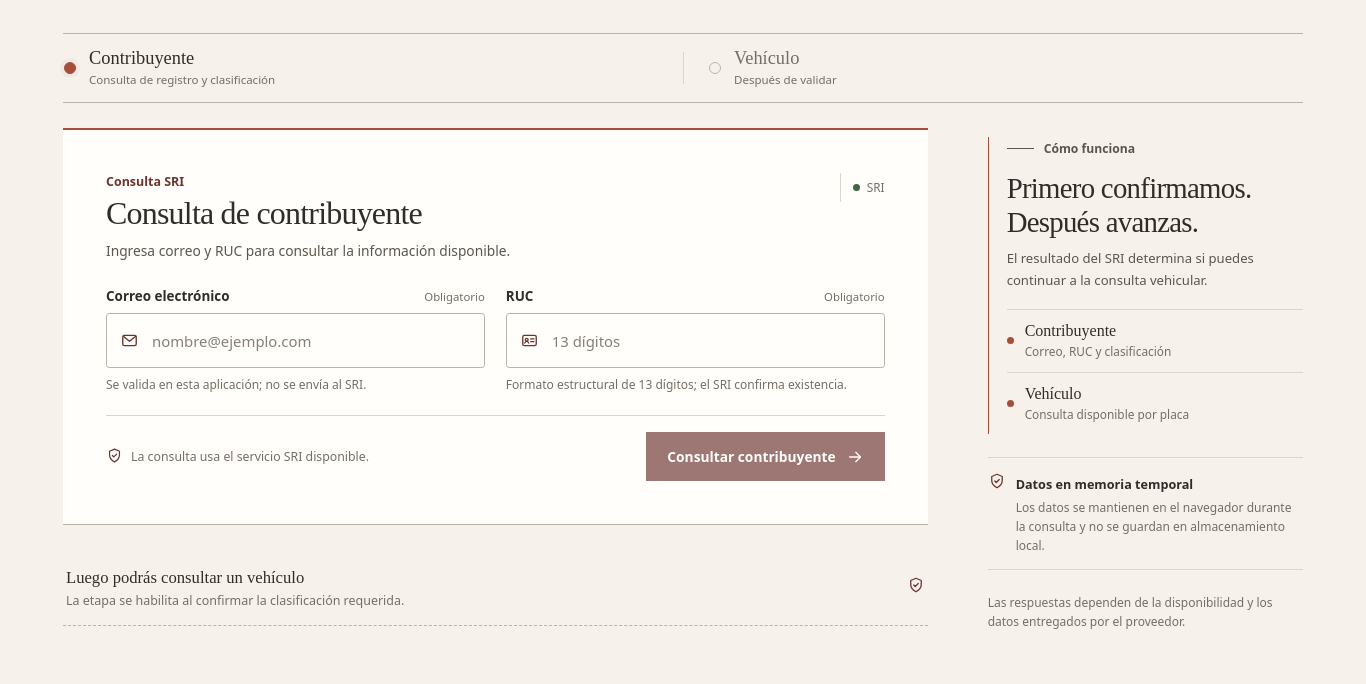
Portal de consultas › no marca campos vacíos al abrir y muestra el estado requerido después de interactuar
(page scrolled)
Expected: the button "Consultar contribuyente" is disabled, [646,432,885,482]
Click the field labelled "Correo electrónico". click: {"x": 295, "y": 341}
box: [106,314,485,368]
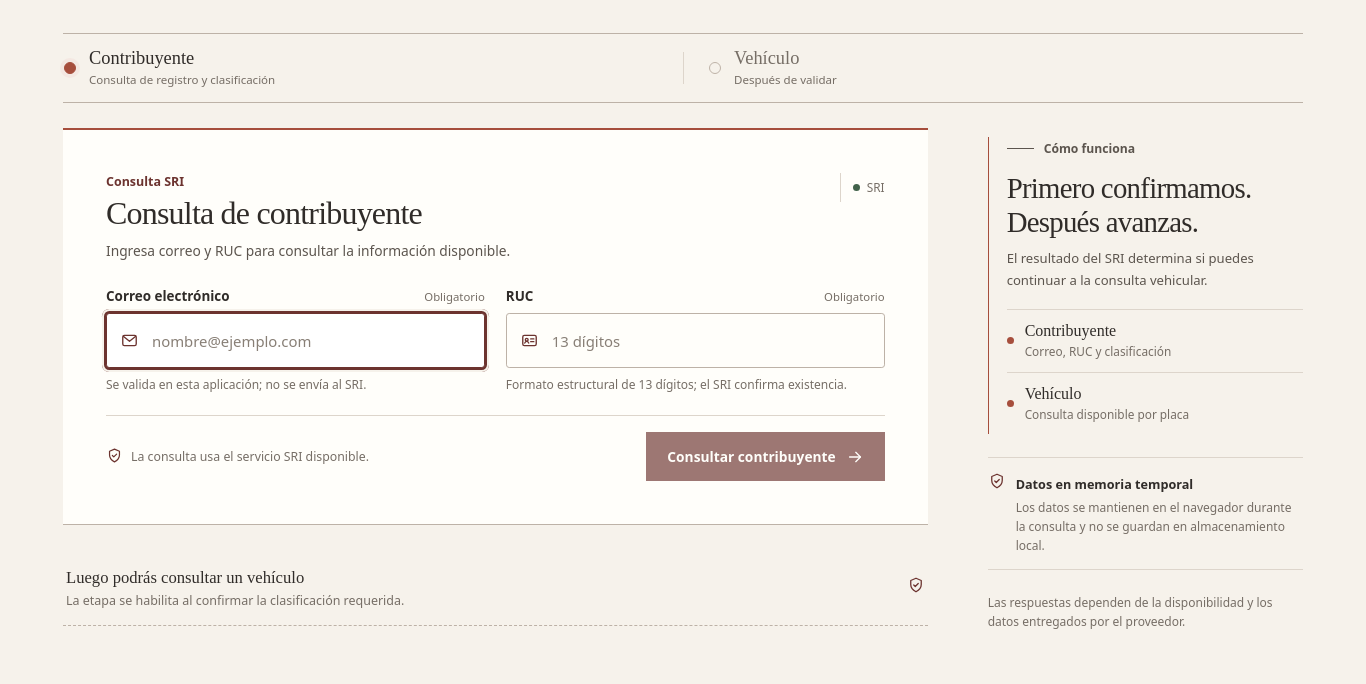
Click the field labelled "RUC". click: {"x": 695, "y": 341}
box: [506,314,885,368]
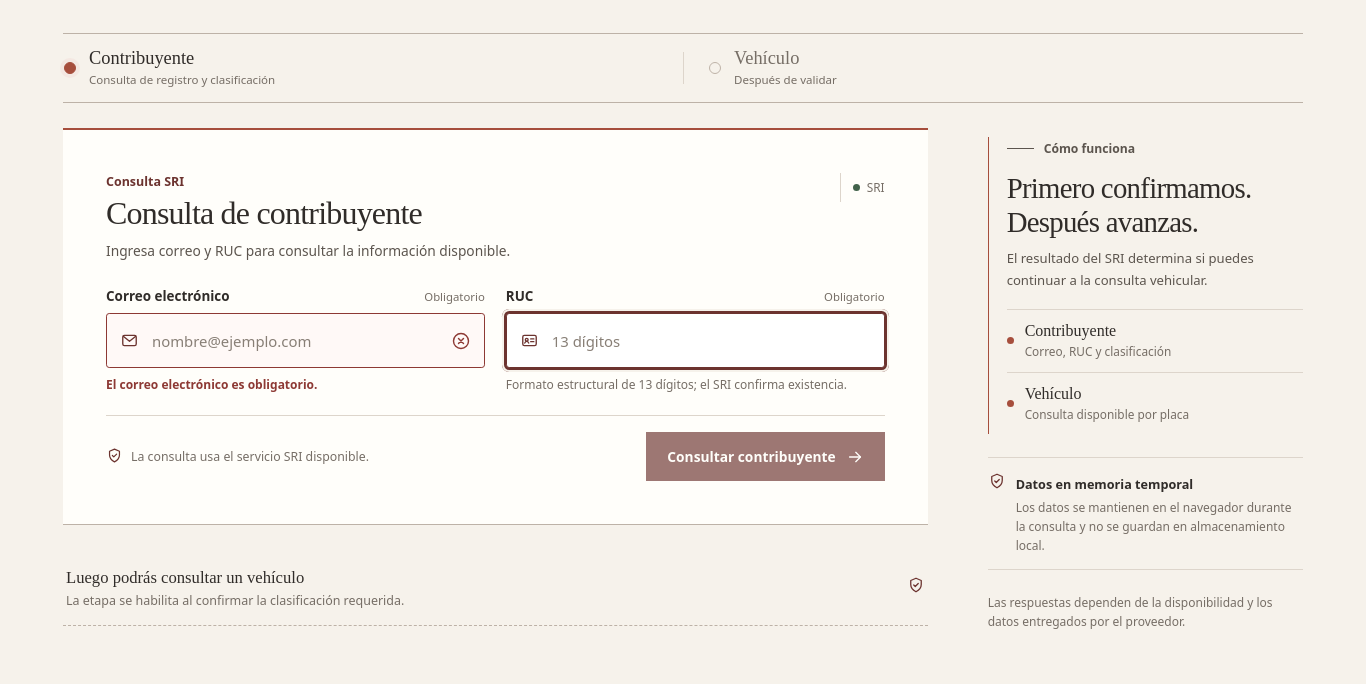
Expected: the text "El correo electrónico es obligatorio." is shown, [106,376,318,394]
Press Tab
(page scrolled)
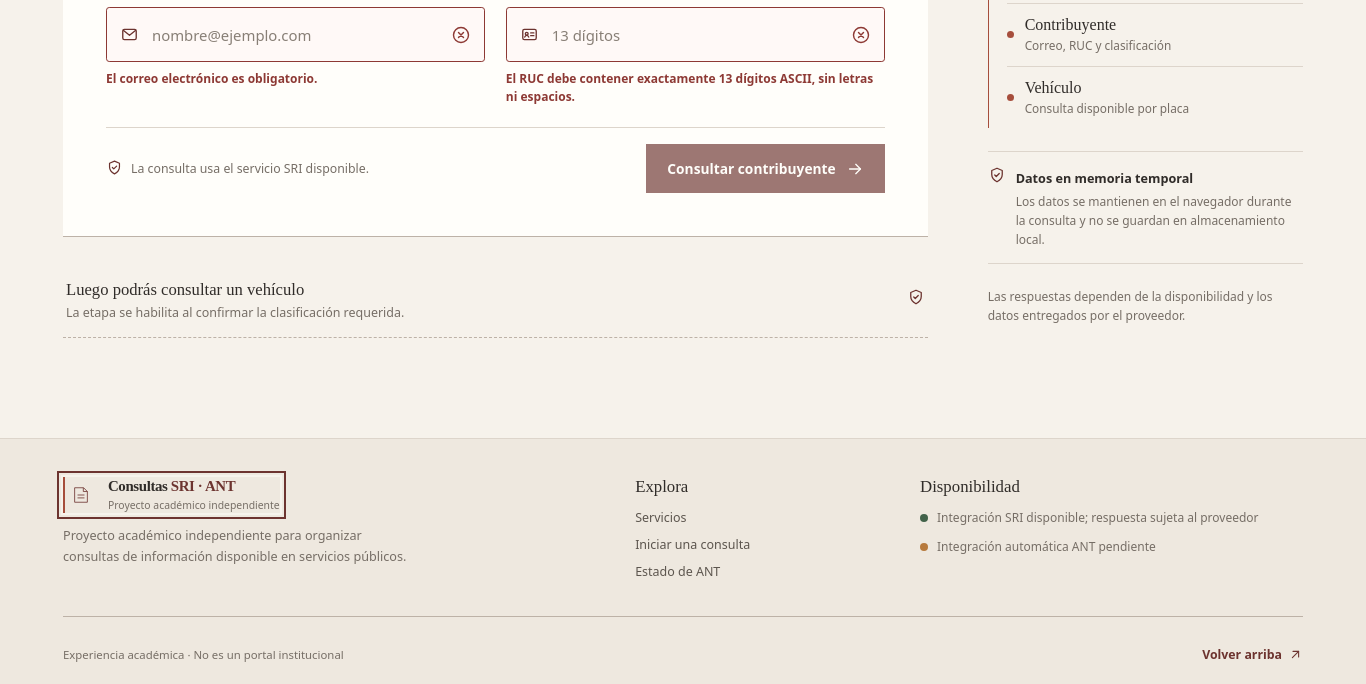
Expected: the text "exactamente 13 dígitos ASCII" is shown, [506,70,873,106]
